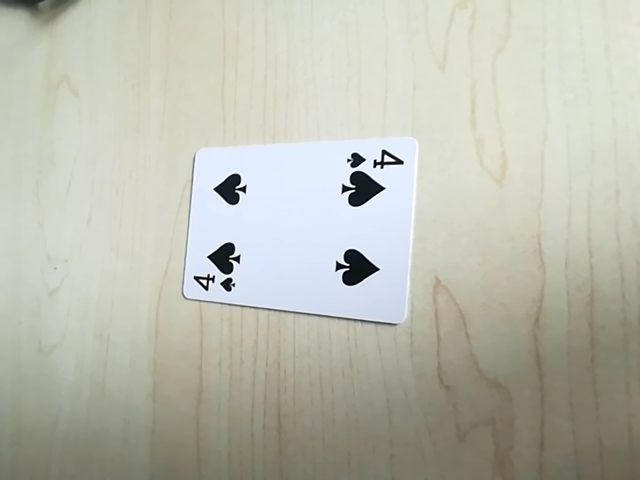ht 4: (342, 143, 404, 171), (184, 270, 239, 299)
